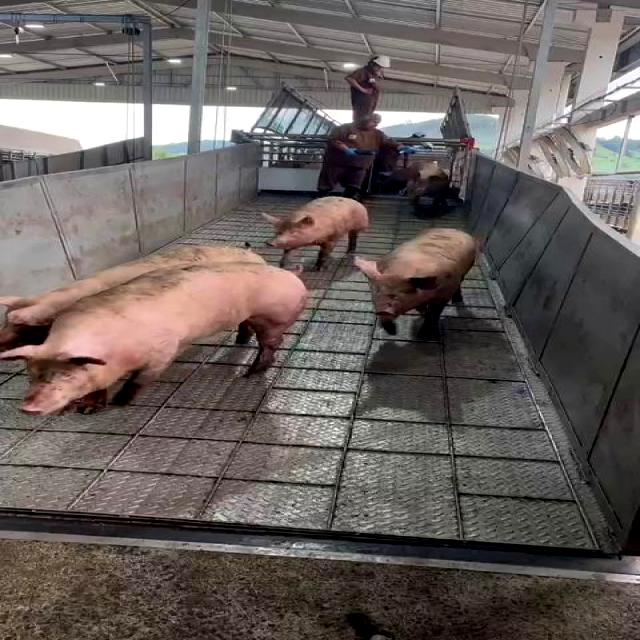pig: (3, 262, 306, 411), (0, 245, 265, 351), (358, 229, 476, 336), (264, 197, 368, 270)
